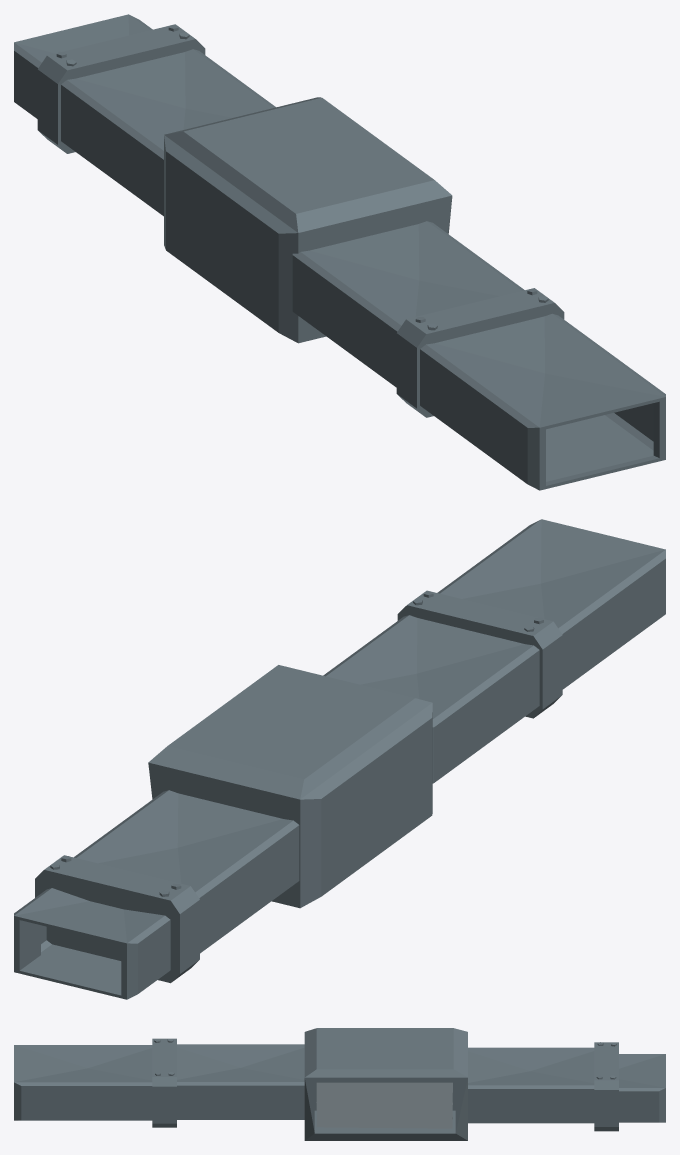
Rendered from vent.glb.
The picture shows the model from 3 angles, top to bottom: view 1: azimuth 30°, elevation 25°; view 2: azimuth 150°, elevation 25°; view 3: azimuth 270°, elevation 25°; orthographic projection. The views are drawn at different scales.
Visible parts, largest first — view 1: vent; view 2: vent; view 3: vent.
Boxes of the visible parts, x1,y1,x2,y2 form: vent: (14,14,665,490); vent: (14,519,665,999); vent: (14,1028,665,1140).
Size of the model in its own units: 0.5141 by 0.3607 by 2.91.
